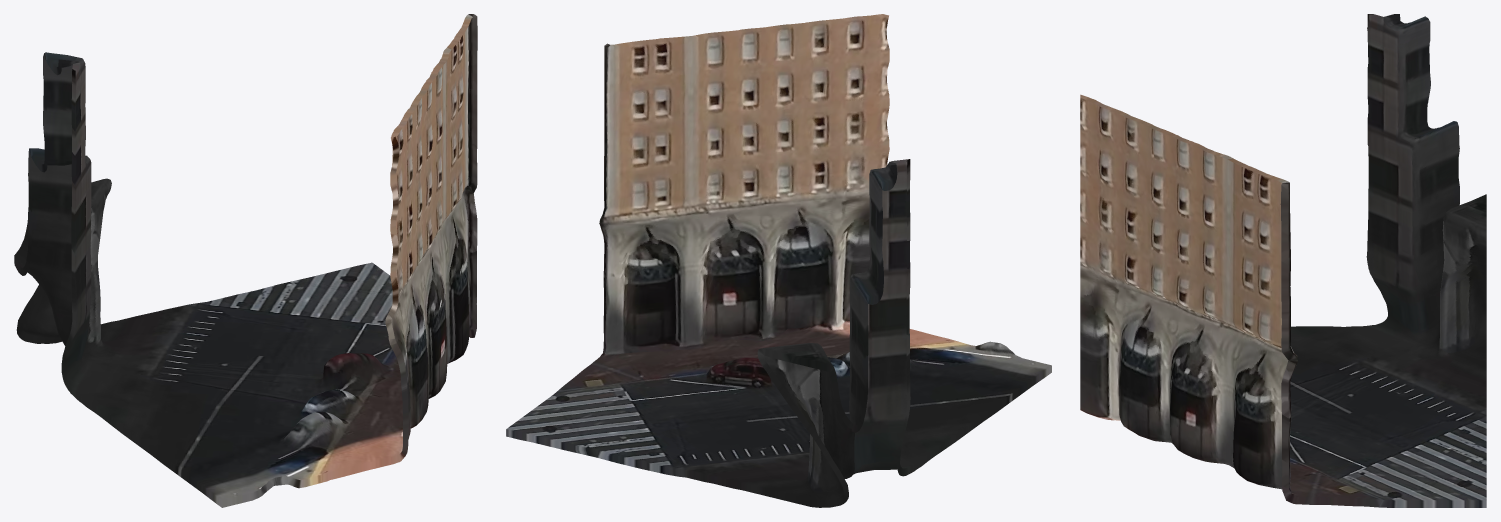
The model's file is z20-167785-405227-h0-yup-uvflip-v3-world.glb.
3 renders of one model, left to right at view 1: azimuth 30°, elevation 25°; view 2: azimuth 150°, elevation 25°; view 3: azimuth 270°, elevation 25°, orthographic. The views are drawn at different scales.
Bounding box in the file's own units: 30.16 × 26.6 × 30.32.
Materials: 1 (1 with a texture image).
